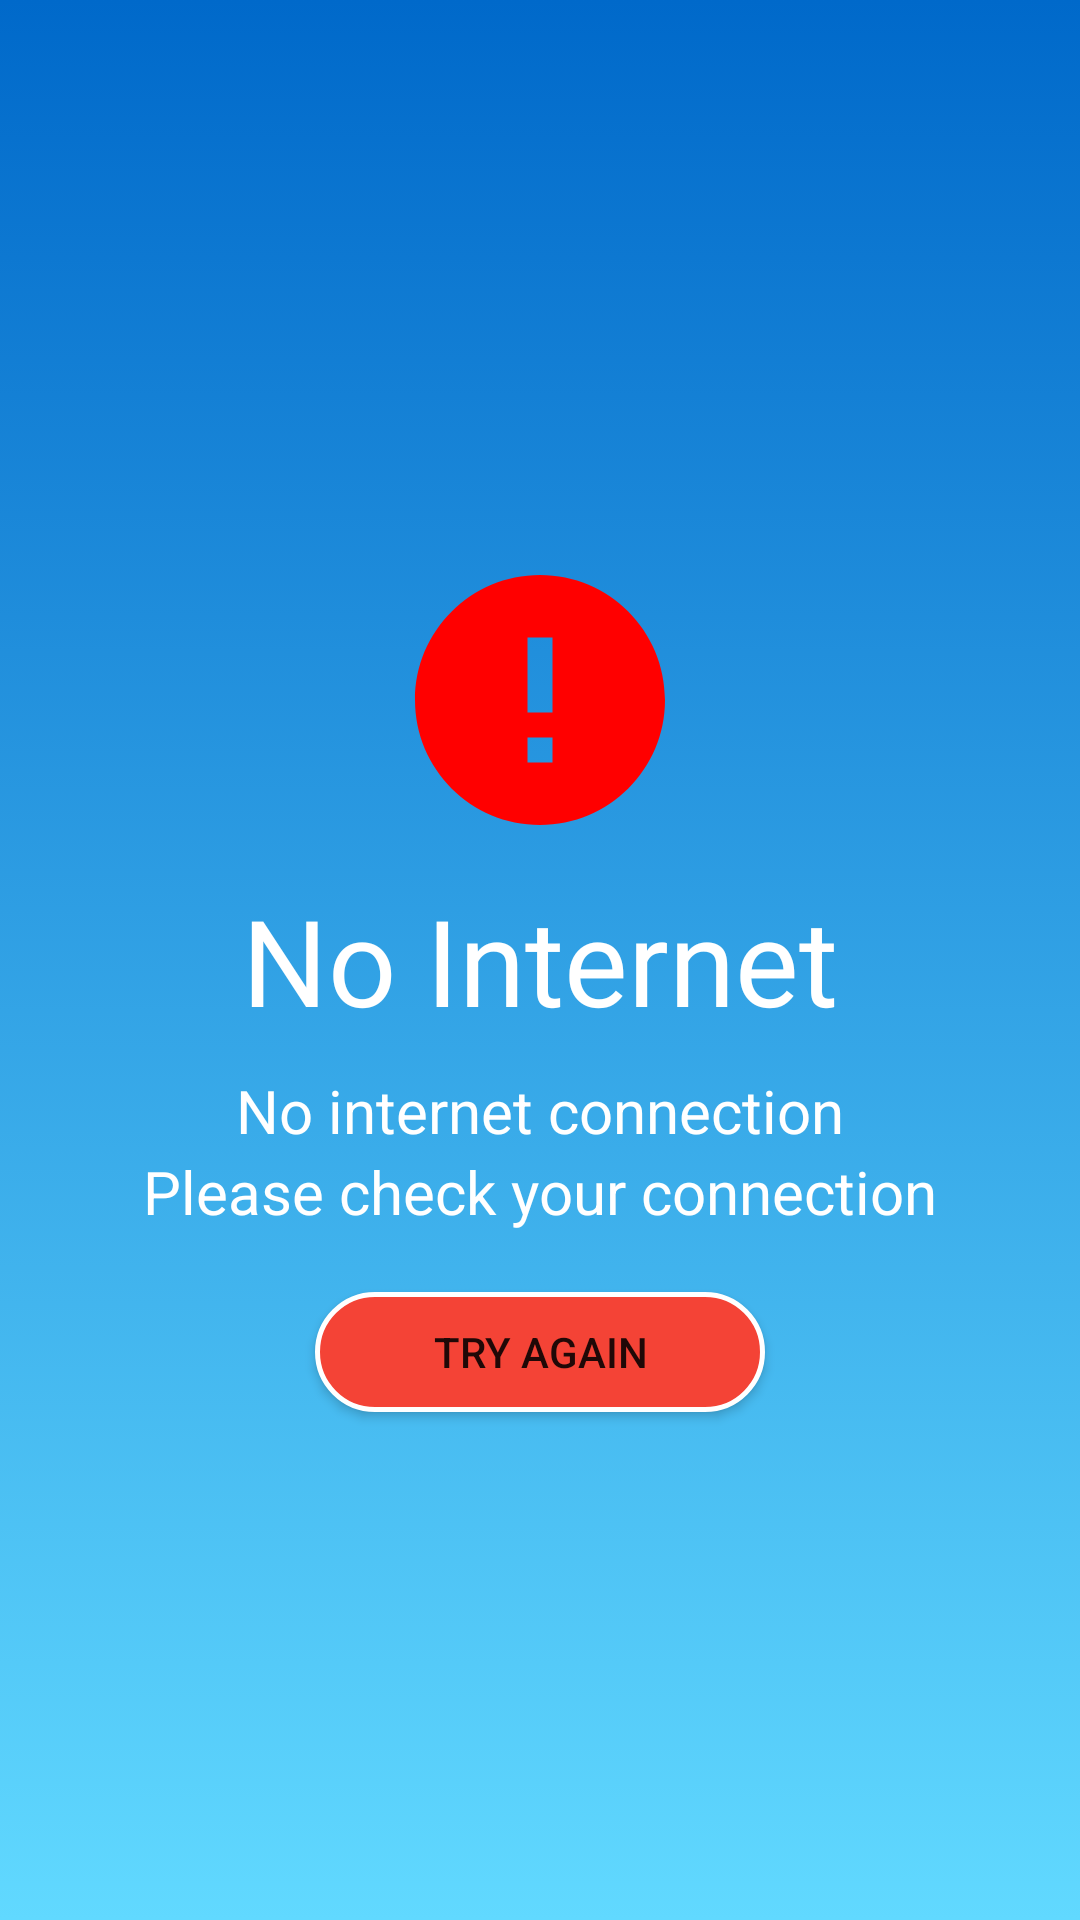

Icons on this 1080px x 1920px Android screen, each with the point to tap as (x=x, y=y):
error: (x=540, y=700)
